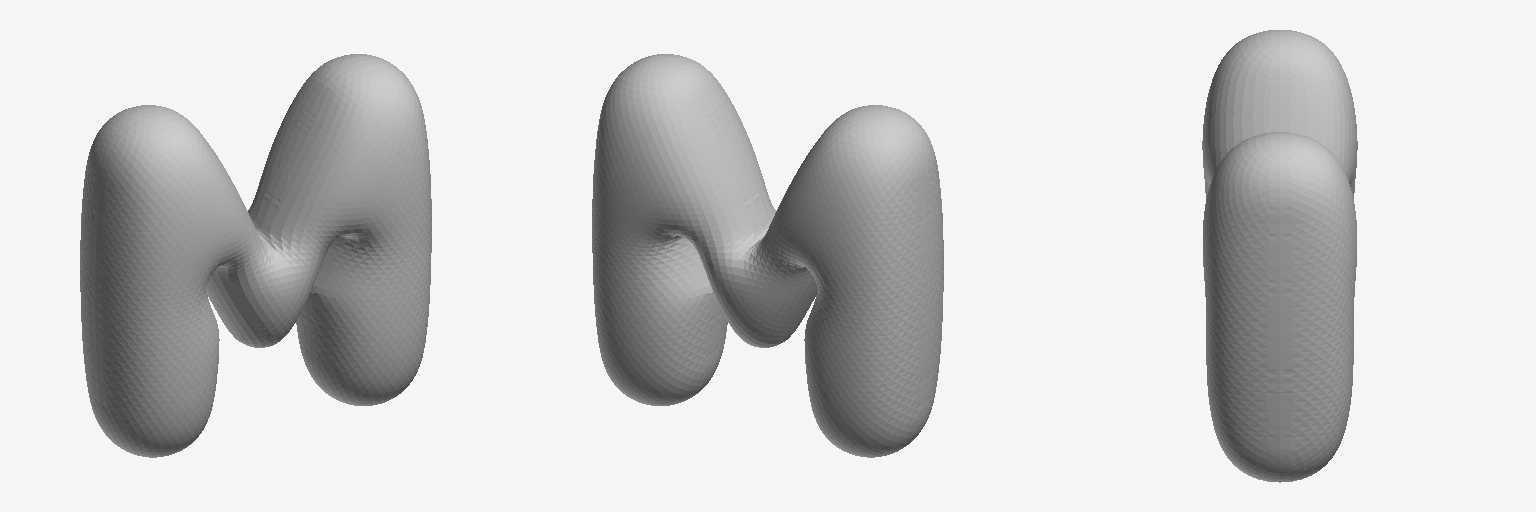
Rendered from icon.obj.
The picture shows the model from 3 angles: view 1: azimuth 30°, elevation 25°; view 2: azimuth 150°, elevation 25°; view 3: azimuth 270°, elevation 25°; orthographic projection.
Visible parts, largest first — view 1: groupNumber_0; view 2: groupNumber_0; view 3: groupNumber_0.
Part boxes in pixels (x1,y1,x2,y2): groupNumber_0: (80,54,431,457); groupNumber_0: (592,54,943,457); groupNumber_0: (1202,30,1357,482).
Bounding box in the file's own units: 6.61 × 6.64 × 2.76.